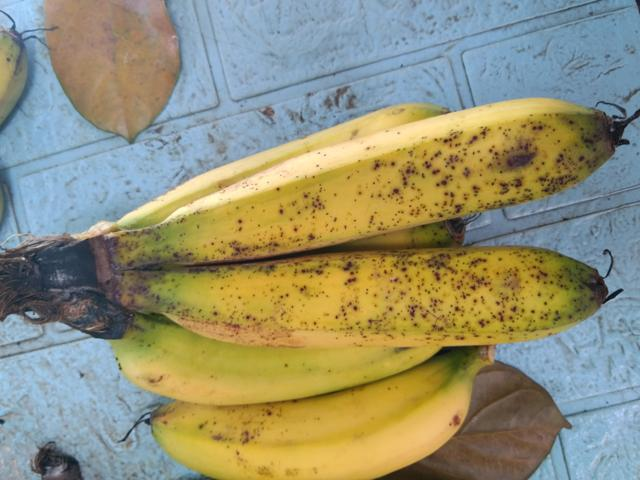ripe: (101, 82, 629, 237), (174, 226, 620, 348), (128, 364, 496, 479)
